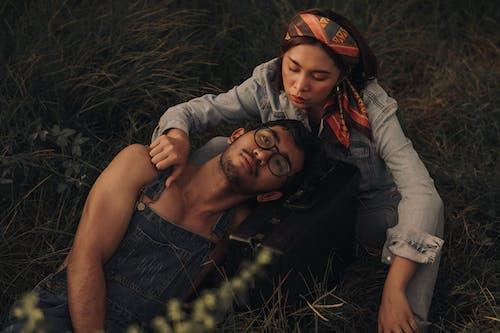eyeglasses: (254, 118, 296, 180)
